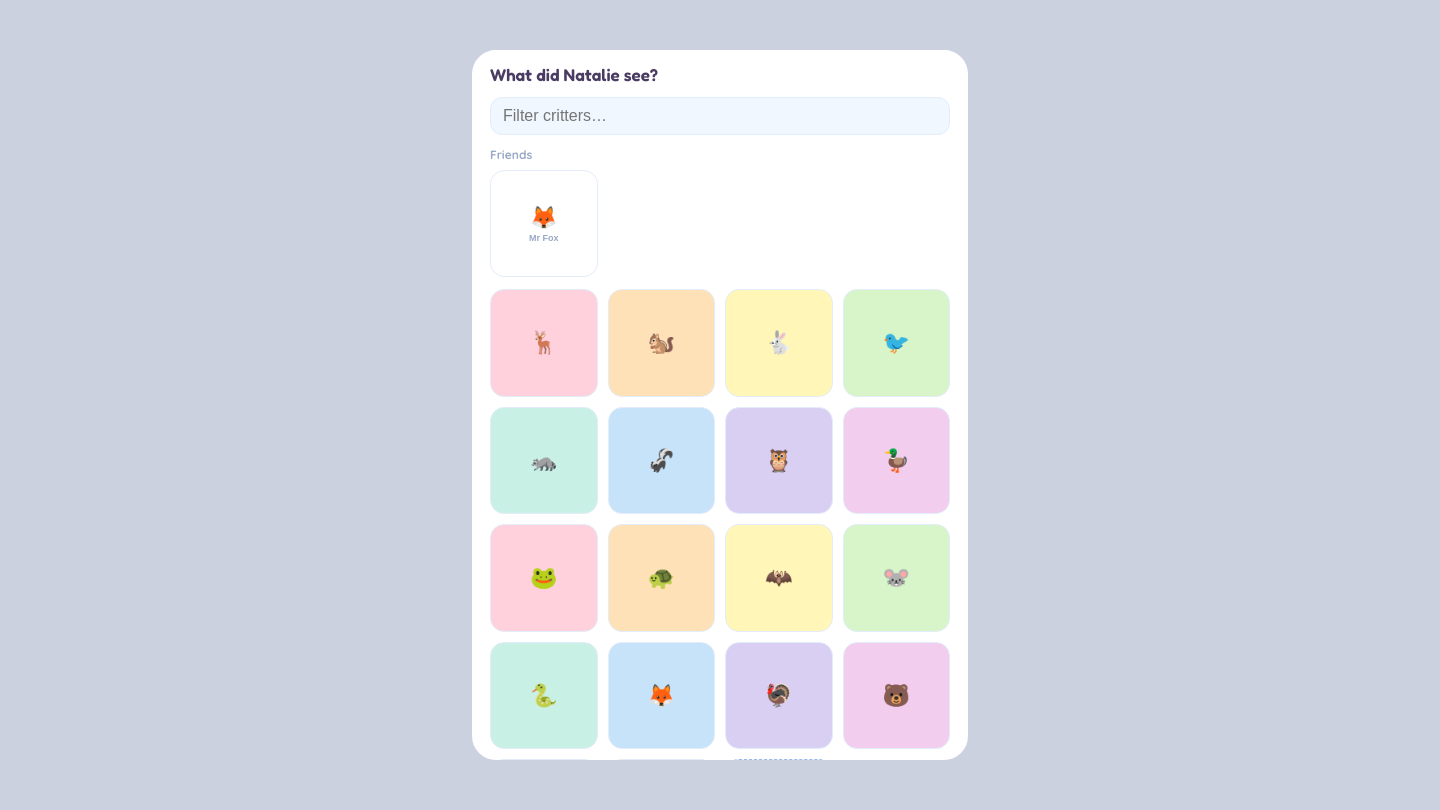
Scenario: LogSightingFlow friends › editing the name away swaps back to the checkbox; restoring (any case) swaps again
The width and height of the screenshot is (1440, 810).
Click the button with aria-label "Friend Mr Fox" at (544, 224), box [490,170,598,277]
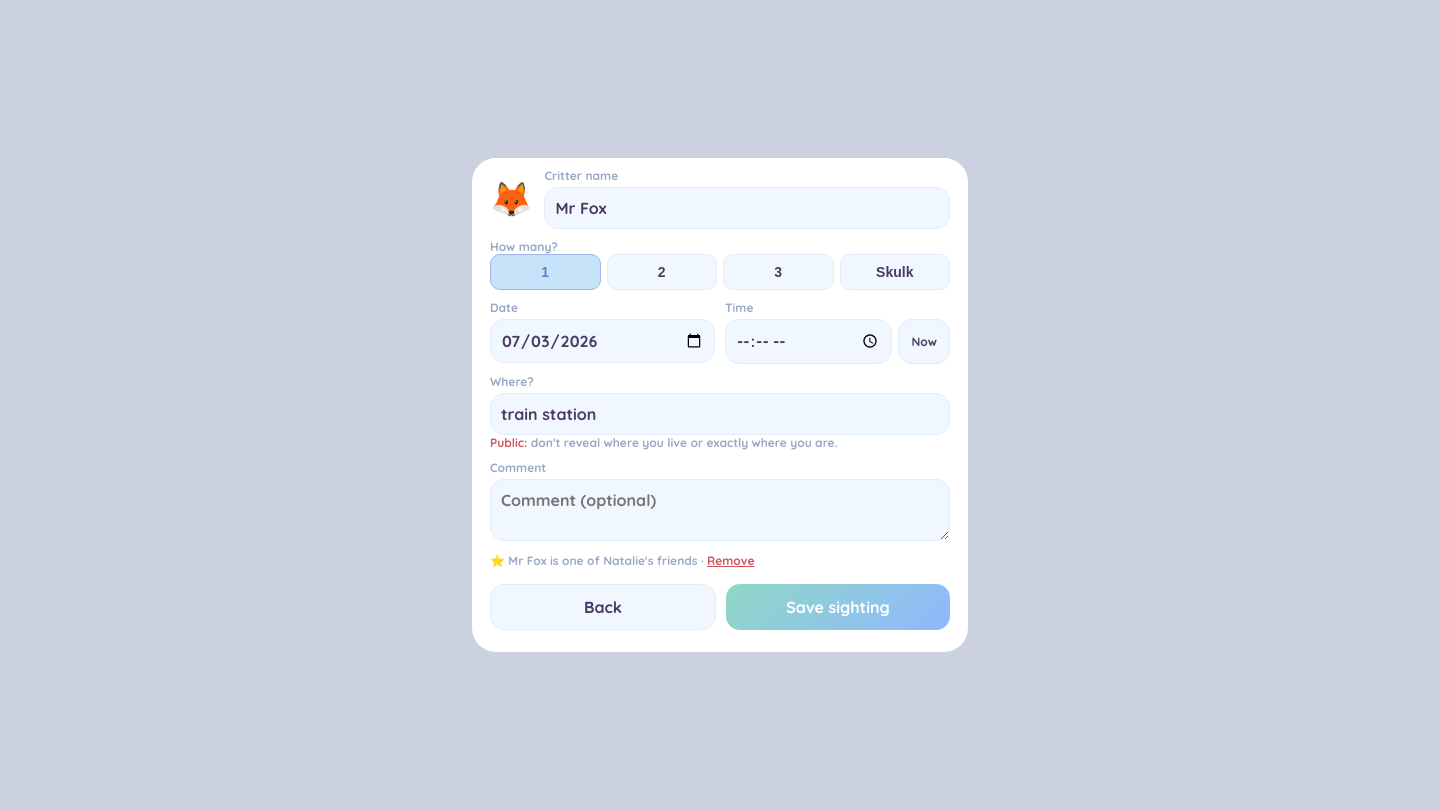
Clear the field labelled "Critter name" at (747, 208), box [544,187,950,229]
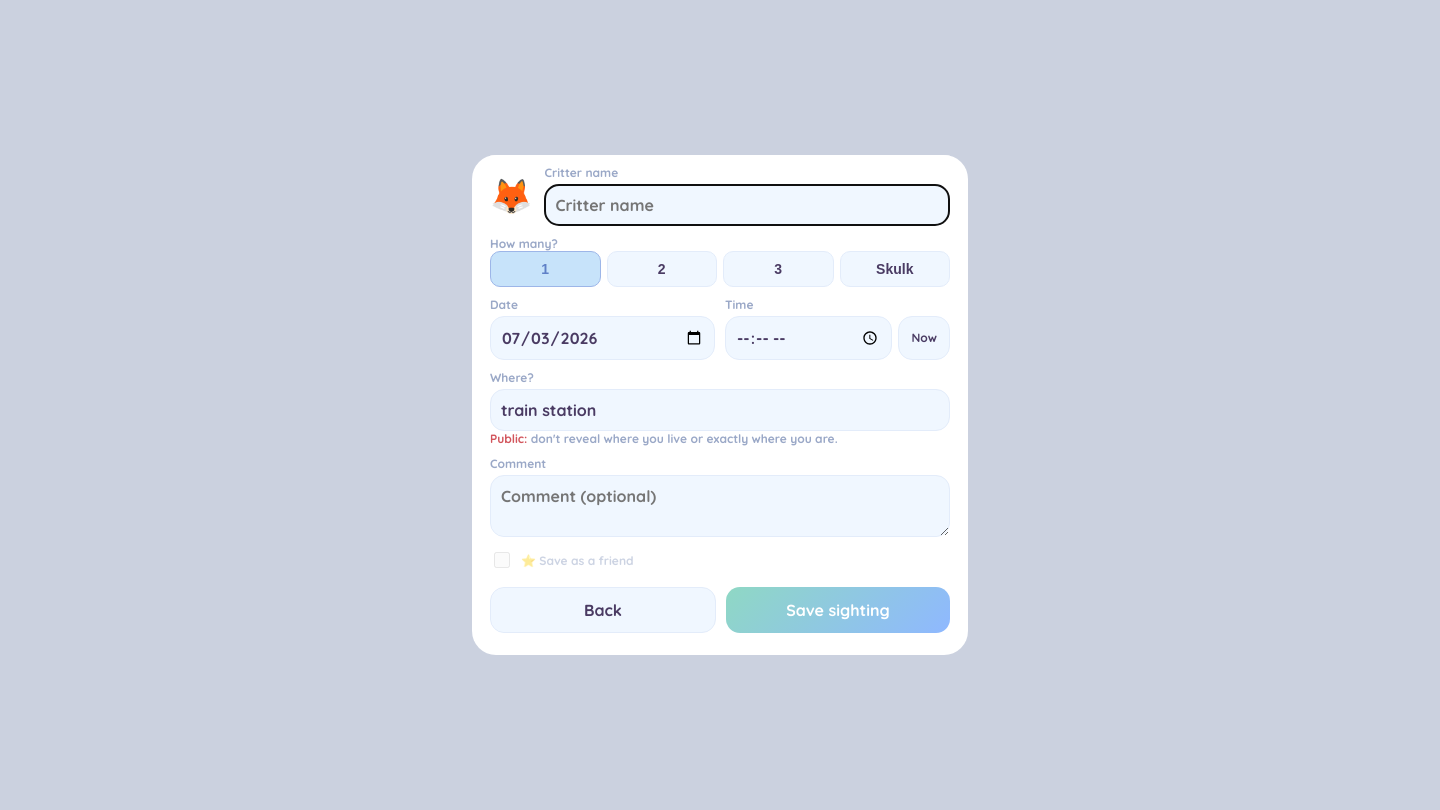
Type "Mrs Fox" into the field labelled "Critter name" at (747, 205), box [544,184,950,226]
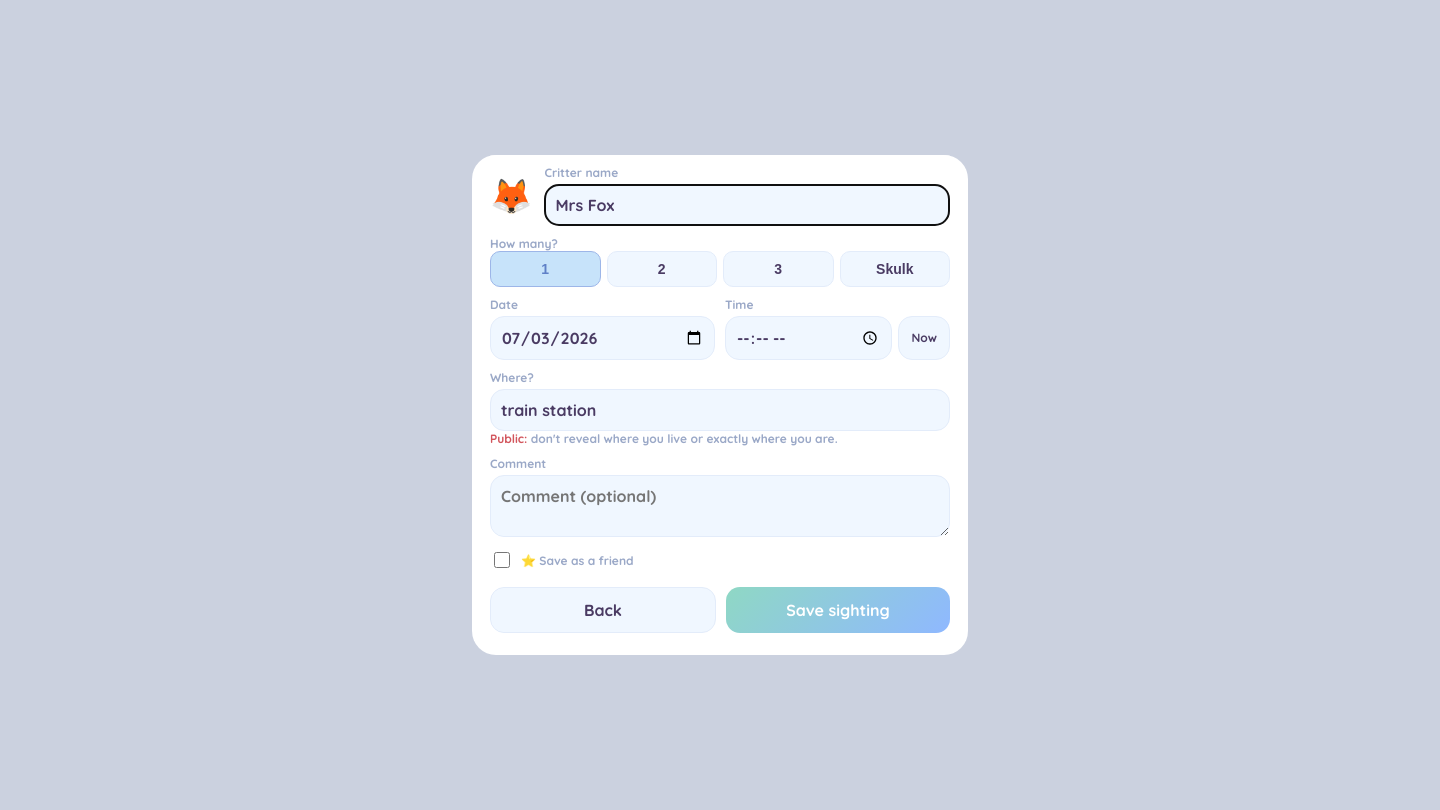
Expected: the text "is one of Natalie's friends" is not shown
Expected: the checkbox labelled "⭐ Save as a friend" is enabled, [494,552,510,568]
Replace the text in the field labelled "Critter name" with "mr fox " at (747, 205), box [544,184,950,226]
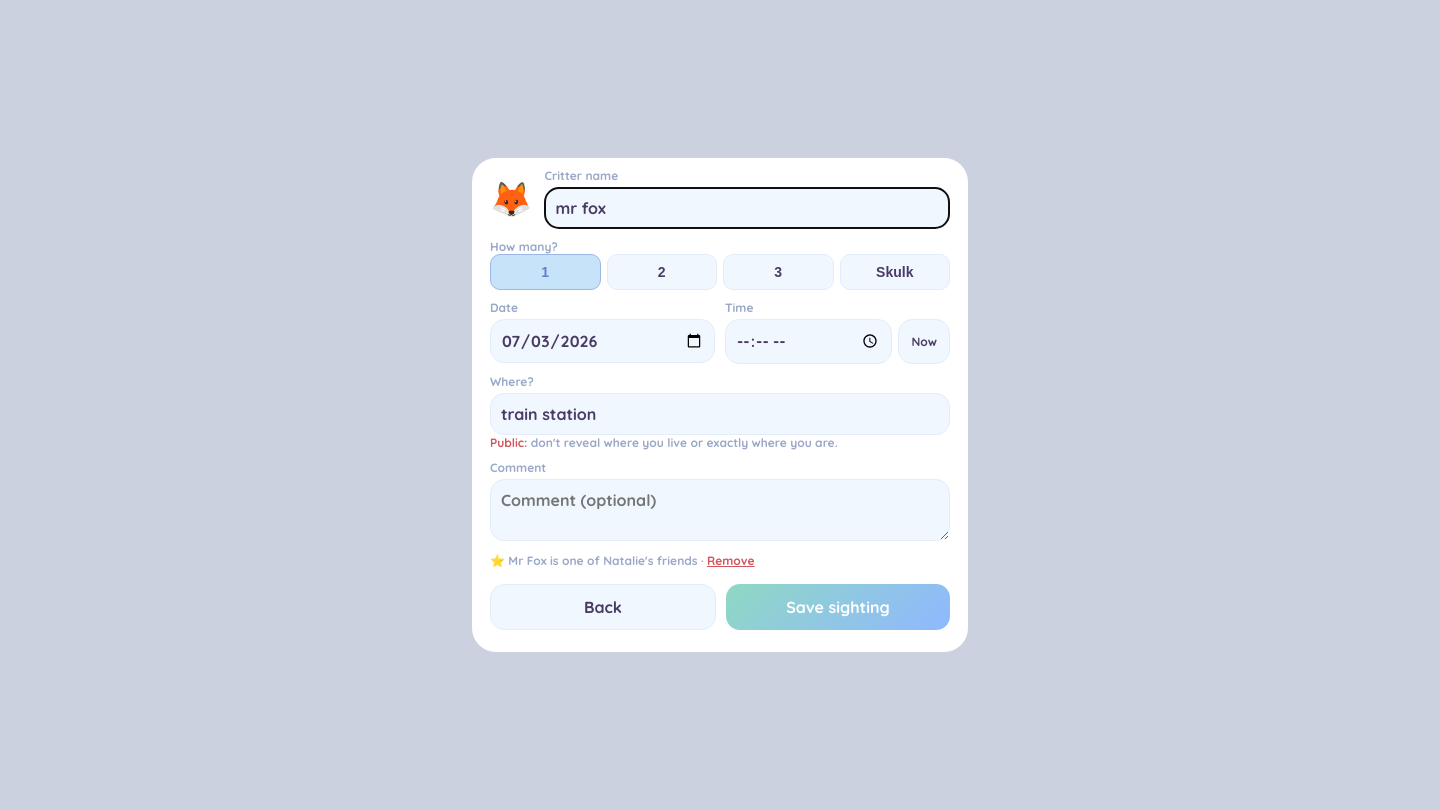
Expected: the text "⭐ Mr Fox is one of Natalie's friends · Remove" is shown, [490,553,755,568]
Expected: the checkbox is gone
